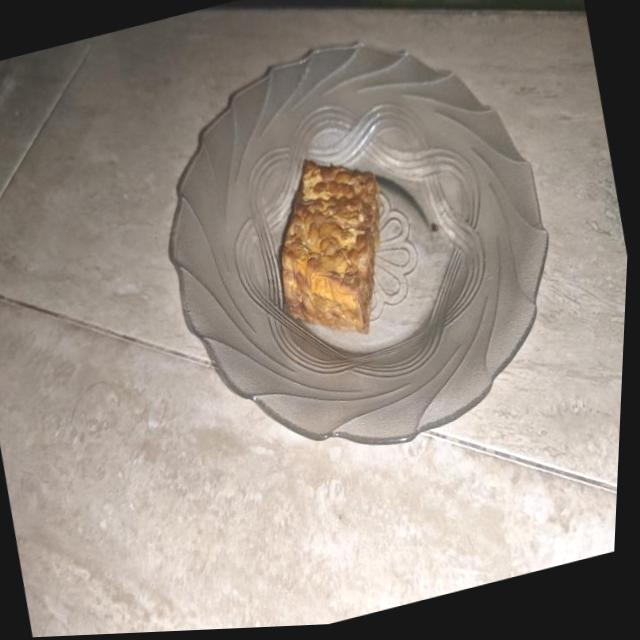tempe_goreng: (282, 160, 379, 334)
